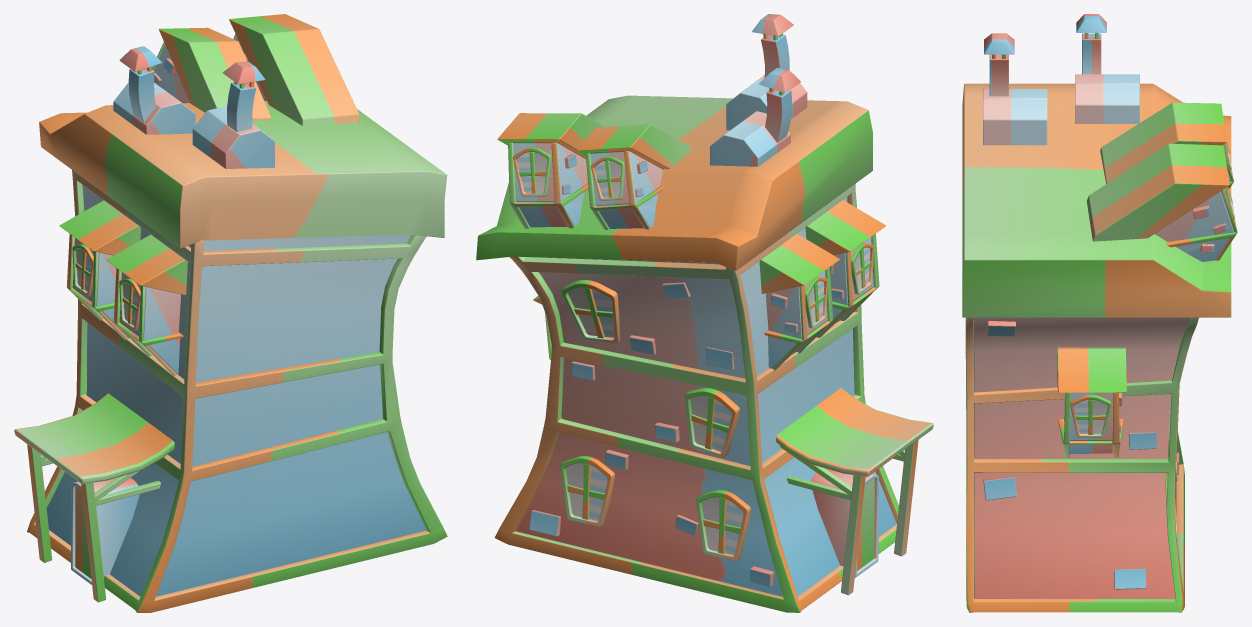
The model's file is HouseE_v2.fbx.
3 renders of one model, left to right at view 1: azimuth 30°, elevation 25°; view 2: azimuth 150°, elevation 25°; view 3: azimuth 270°, elevation 25°, orthographic. The views are drawn at different scales.
Visible parts, largest first — view 1: HouseE_v2.; view 2: HouseE_v2.; view 3: HouseE_v2..
Boxes of the visible parts, x1,y1,x2,y2 form: HouseE_v2.: (14, 14, 447, 612); HouseE_v2.: (476, 14, 933, 612); HouseE_v2.: (962, 14, 1237, 612).
Bounding box in the file's own units: 948 × 1311 × 665.
